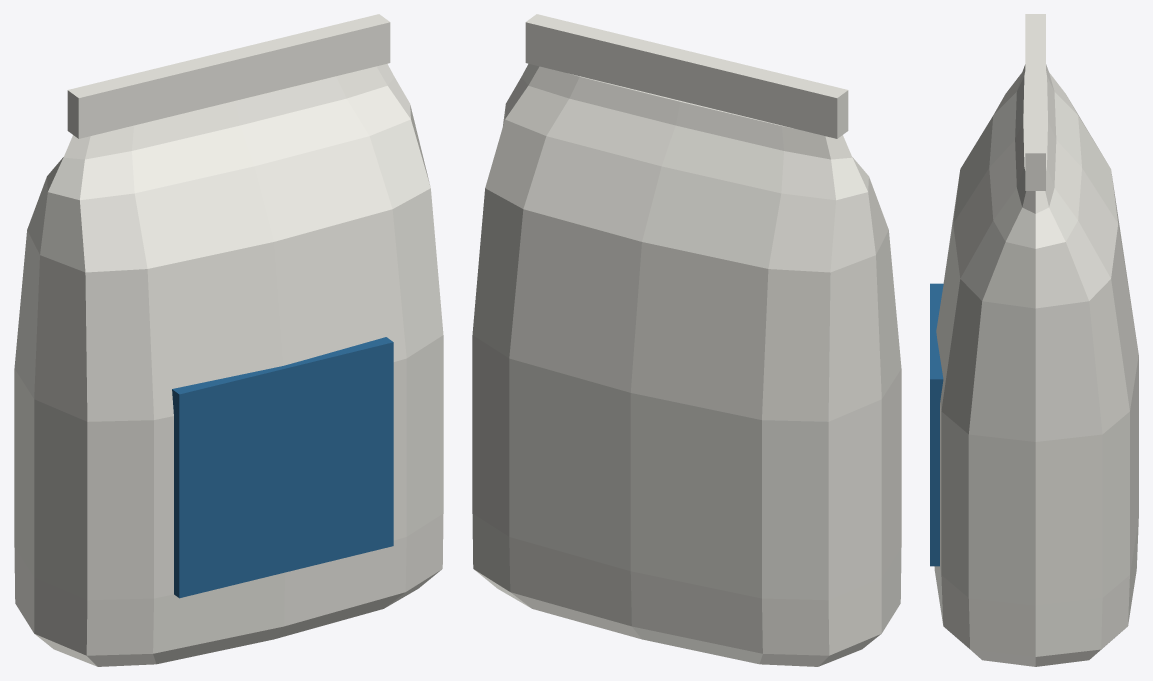
The model's file is FD_FlourSack_01.glb.
3 views of the same model, side by side, from view 1: azimuth 30°, elevation 25°; view 2: azimuth 150°, elevation 25°; view 3: azimuth 270°, elevation 25° (orthographic). The views are drawn at different scales.
Parts seen in each view (by area): view 1: FD_FlourSack_01; view 2: FD_FlourSack_01; view 3: FD_FlourSack_01.
Part boxes in pixels (x1,y1,x2,y2): FD_FlourSack_01: (14,14,443,666); FD_FlourSack_01: (472,14,901,666); FD_FlourSack_01: (930,14,1138,666).
Size of the model in its own units: 0.24 by 0.324 by 0.1214.
1 material, 1 textured.
